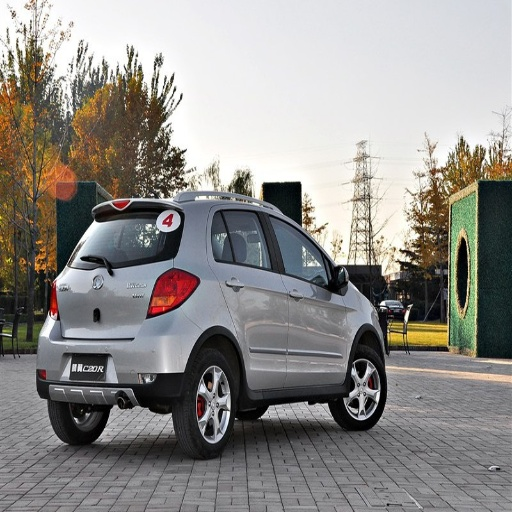back_bumper: (36, 308, 200, 403)
back_right_door: (217, 208, 288, 386)
trunk: (51, 265, 169, 352)
